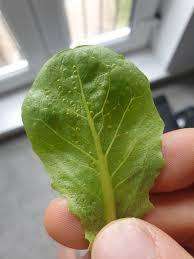Bok-Choy-Diseased: (25, 46, 162, 221)
